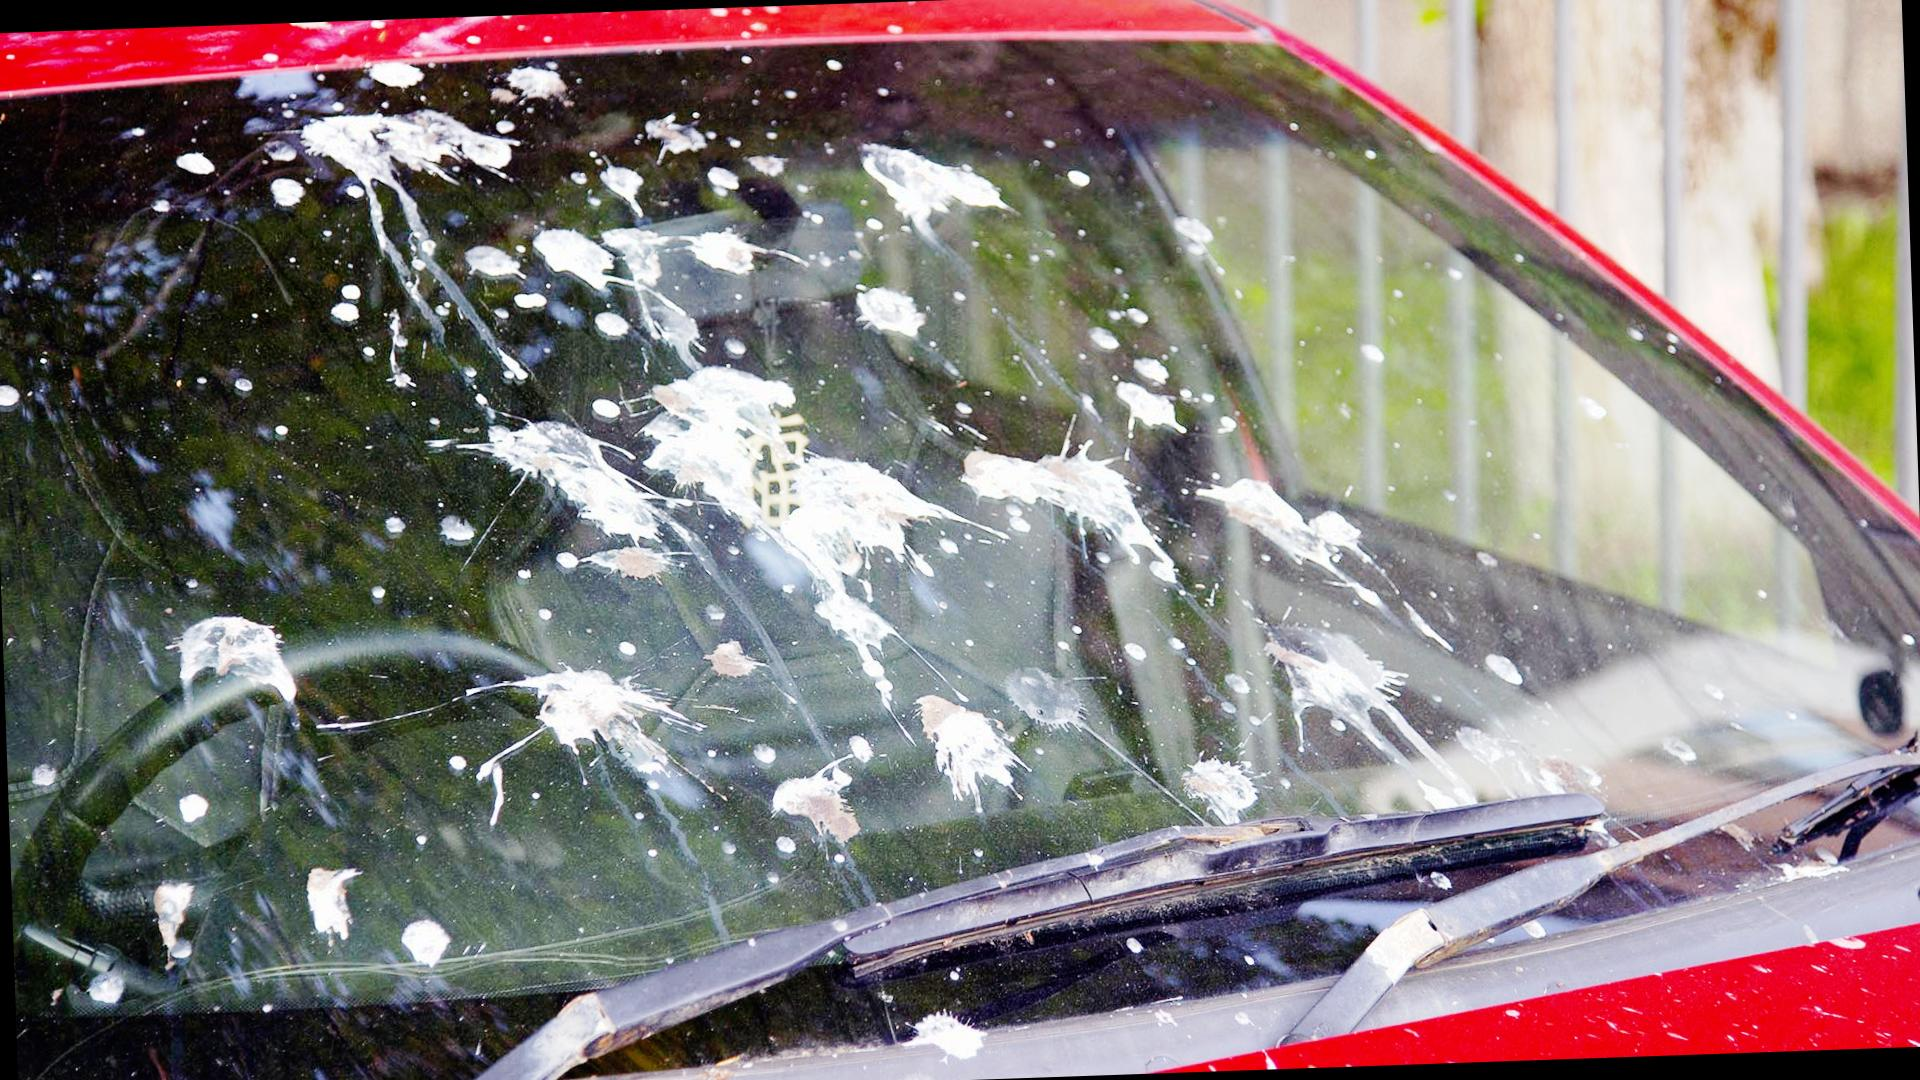Bird Poop: (646, 368, 965, 676), (302, 111, 527, 378), (1266, 626, 1477, 802), (477, 670, 698, 824), (1197, 479, 1383, 609), (479, 423, 659, 541), (967, 451, 1167, 556), (918, 695, 1022, 811), (865, 145, 1007, 229), (181, 616, 295, 700), (1456, 727, 1565, 793), (773, 767, 861, 843), (534, 229, 617, 289), (1183, 758, 1257, 822), (1007, 669, 1085, 728), (646, 291, 699, 368), (907, 1011, 988, 1059), (603, 229, 670, 286), (309, 869, 359, 939), (857, 289, 924, 336), (1118, 382, 1185, 430), (688, 231, 764, 273), (156, 884, 194, 965), (589, 547, 663, 579), (646, 115, 705, 153), (402, 920, 450, 967), (1406, 604, 1452, 650), (508, 67, 567, 102), (603, 166, 644, 215), (705, 640, 757, 676), (465, 245, 521, 276), (371, 62, 423, 87), (1176, 218, 1213, 251), (1782, 862, 1847, 880), (1486, 654, 1523, 684), (88, 973, 125, 1002), (272, 178, 306, 206), (1663, 736, 1696, 764), (440, 516, 475, 541), (177, 152, 214, 174), (179, 794, 208, 822), (708, 167, 740, 193), (1135, 359, 1168, 382), (596, 313, 628, 336), (749, 156, 786, 175), (1091, 327, 1120, 349), (1578, 397, 1607, 419), (851, 736, 873, 761), (331, 302, 359, 322), (754, 744, 777, 767), (33, 765, 57, 786), (593, 398, 620, 417), (514, 293, 546, 307), (0, 385, 21, 406), (1362, 344, 1385, 364), (1226, 674, 1249, 692), (386, 516, 406, 535), (777, 836, 796, 855), (1125, 644, 1147, 659), (1068, 170, 1091, 186), (727, 339, 746, 356), (558, 551, 579, 567), (450, 754, 468, 770), (1218, 417, 1237, 431), (620, 642, 637, 655), (866, 218, 884, 229), (347, 285, 359, 291)
